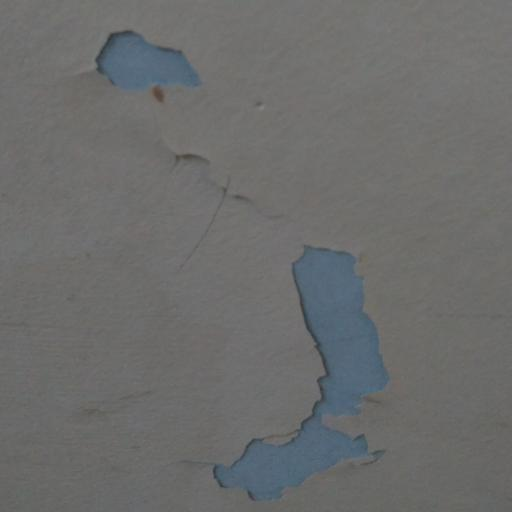peeling: (184, 220, 414, 510), (68, 16, 286, 250)
